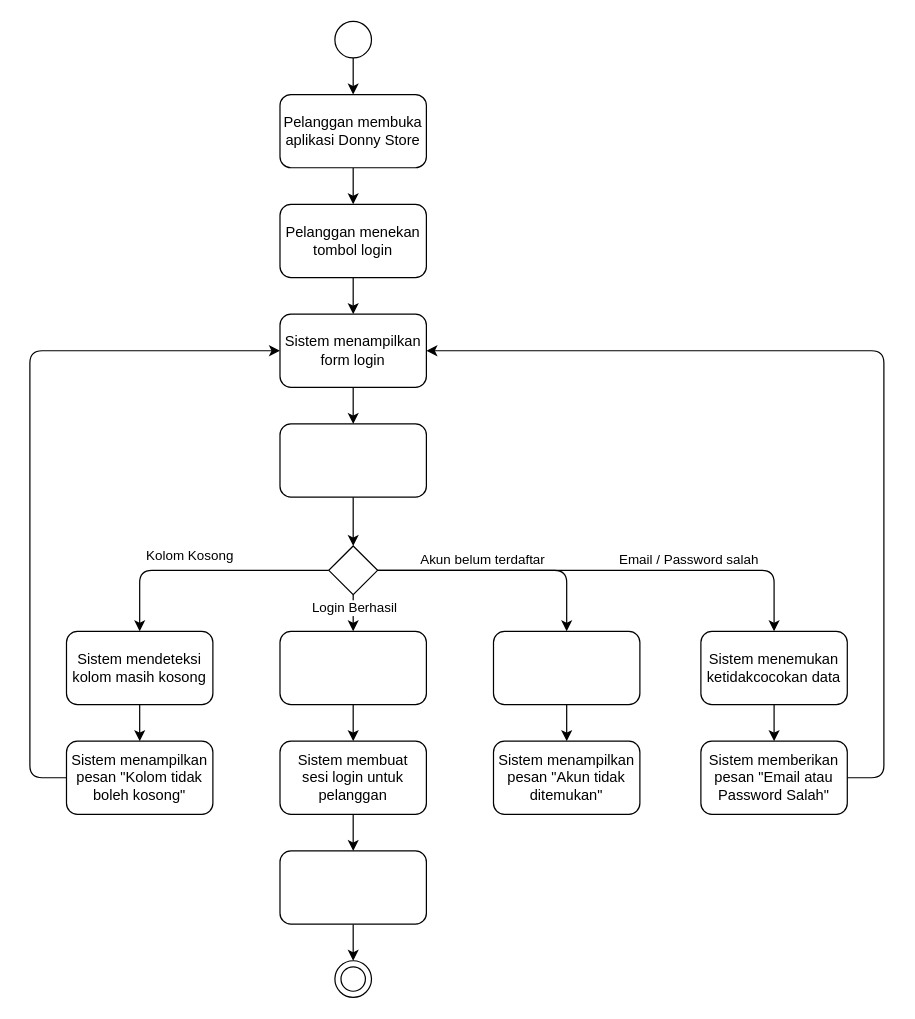
The diagram is 915 pixels wide and 1019 high, and some of its shapes have lost their labels. Each missing label, with the centre of its shape:
"Pelanggan mengisi form login" belongs at [352,460].
"Sistem memvalidasi data-data pelanggan di Database" belongs at [352,667].
"Sistem mengarahkan pelanggan ke halaman utama" belongs at [352,887].
"Sistem tidak menemukan data pelanggan" belongs at [566,667].
